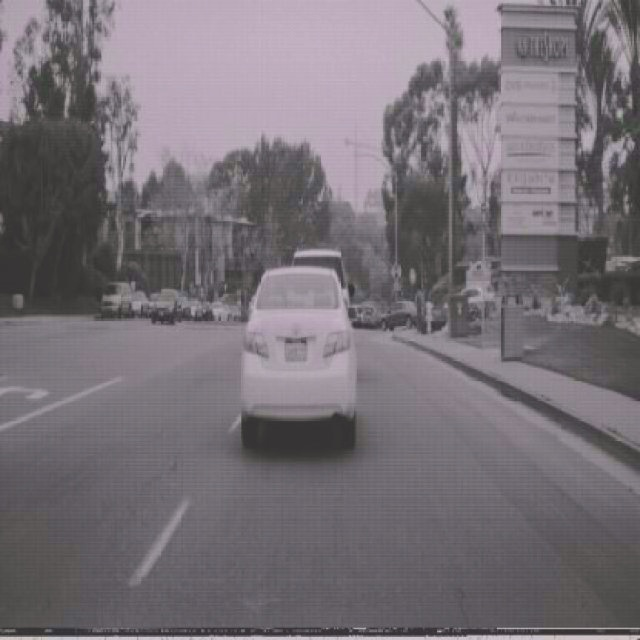signalAhead: (391, 260, 402, 283)
